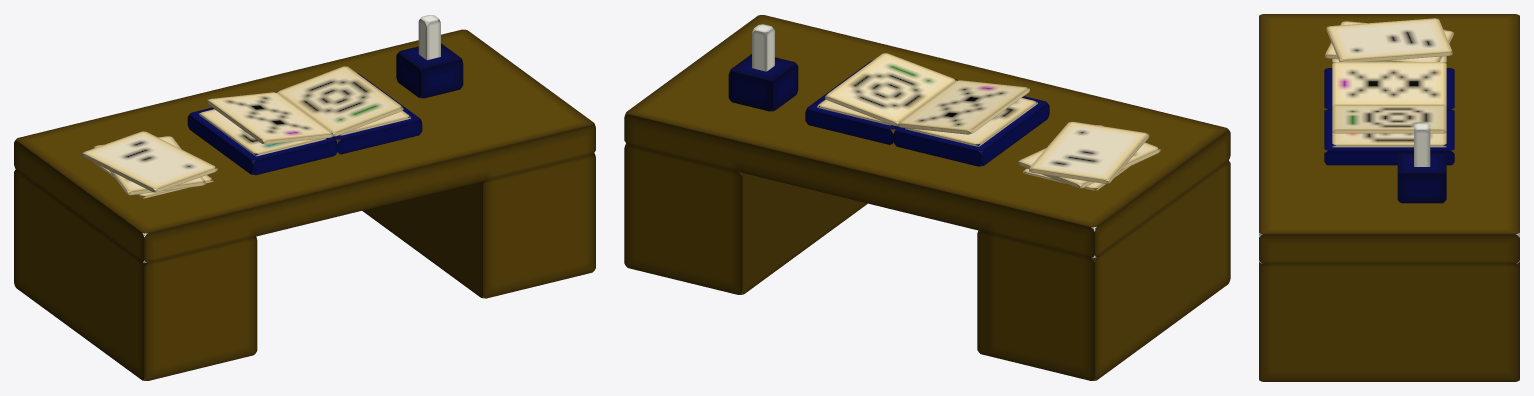
File: desk.fbx
The picture shows the model from 3 angles, left to right: view 1: azimuth 30°, elevation 25°; view 2: azimuth 150°, elevation 25°; view 3: azimuth 270°, elevation 25°; orthographic projection. The views are drawn at different scales.
Parts seen in each view (by area): view 1: cuboid_2, cuboid, cuboid_1, cuboid_8, cuboid_11, cuboid_7, cuboid_3, cuboid_13, cuboid_4, cuboid_6, cuboid_12, cuboid_10; view 2: cuboid_2, cuboid, cuboid_1, cuboid_8, cuboid_11, cuboid_7, cuboid_3, cuboid_13, cuboid_4, cuboid_6, cuboid_12, cuboid_10; view 3: cuboid_2, cuboid_1, cuboid_7, cuboid_11, cuboid_8, cuboid_4, cuboid_13, cuboid_5, cuboid_3, cuboid_12, cuboid_10.
Boxes of the visible parts, x1,y1,x2,y2 form: cuboid_2: (14, 29, 595, 262); cuboid: (14, 169, 257, 380); cuboid_1: (362, 153, 595, 298); cuboid_8: (277, 66, 403, 136); cuboid_11: (82, 131, 217, 192); cuboid_7: (206, 92, 333, 144); cuboid_3: (187, 107, 337, 175); cuboid_13: (396, 43, 463, 98); cuboid_4: (275, 73, 422, 154); cuboid_6: (199, 109, 326, 156); cuboid_12: (418, 15, 440, 59); cuboid_10: (93, 136, 205, 195); cuboid_2: (624, 15, 1230, 257); cuboid: (977, 160, 1230, 380); cuboid_1: (624, 143, 867, 294); cuboid_8: (825, 53, 956, 126); cuboid_11: (1029, 121, 1149, 183); cuboid_7: (897, 80, 1029, 134); cuboid_3: (893, 96, 1049, 166); cuboid_13: (728, 54, 798, 111); cuboid_4: (805, 60, 957, 144); cuboid_6: (905, 98, 1037, 146); cuboid_12: (752, 24, 774, 71); cuboid_10: (1017, 125, 1160, 188); cuboid_2: (1259, 14, 1519, 263); cuboid_1: (1259, 233, 1519, 381); cuboid_7: (1332, 62, 1446, 106); cuboid_11: (1326, 18, 1452, 61); cuboid_8: (1332, 105, 1446, 133); cuboid_4: (1324, 109, 1454, 165); cuboid_13: (1397, 153, 1446, 203); cuboid_5: (1332, 133, 1446, 147); cuboid_3: (1324, 68, 1454, 110); cuboid_12: (1414, 123, 1430, 166); cuboid_10: (1325, 21, 1453, 61).
Size of the model in its own units: 200 by 90.62 by 100.
1 material, 1 textured.
